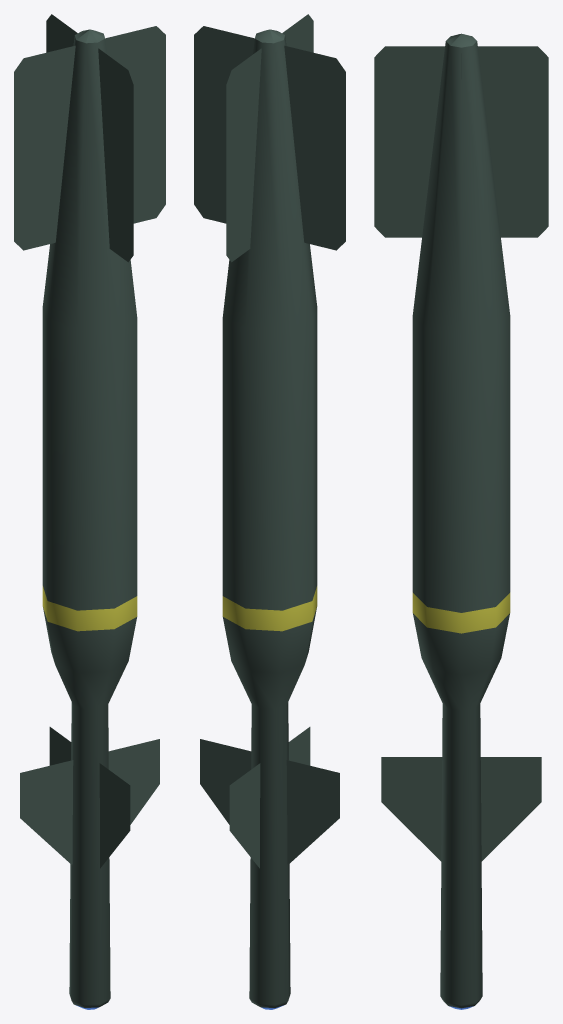
The model's file is gbu-24-paveway.glb.
3 renders of one model, left to right at view 1: azimuth 30°, elevation 25°; view 2: azimuth 150°, elevation 25°; view 3: azimuth 270°, elevation 25°, orthographic.
Visible parts, largest first — view 1: GBU-24 Paveway; view 2: GBU-24 Paveway; view 3: GBU-24 Paveway.
Part boxes in pixels (left/top/right/bottom): GBU-24 Paveway: left=14, top=14, right=165, bottom=1009; GBU-24 Paveway: left=194, top=14, right=345, bottom=1009; GBU-24 Paveway: left=374, top=33, right=548, bottom=1009.
Bounding box in the file's own units: 0.3904 × 2.4 × 0.3904.
